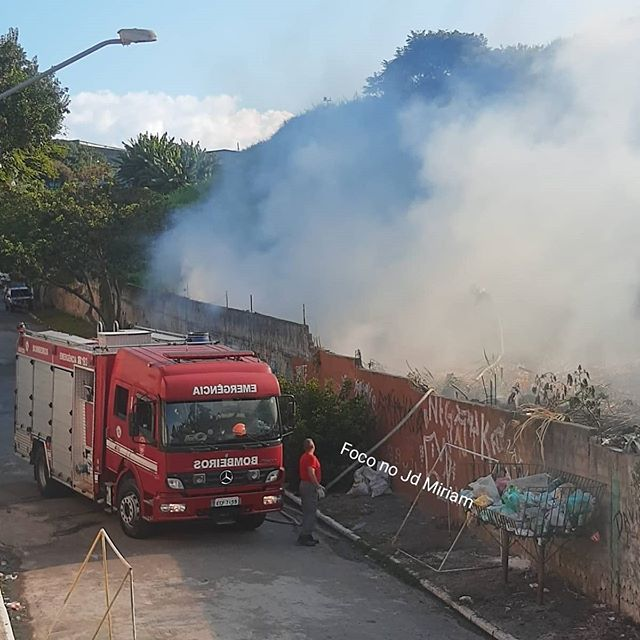firefighter: (293, 433, 330, 550)
firetruck: (11, 316, 287, 529)
sky: (120, 1, 640, 129)
smoke: (175, 99, 631, 377)
tree: (1, 174, 176, 335), (1, 29, 86, 157), (104, 134, 218, 208)
wall: (200, 341, 640, 640)
